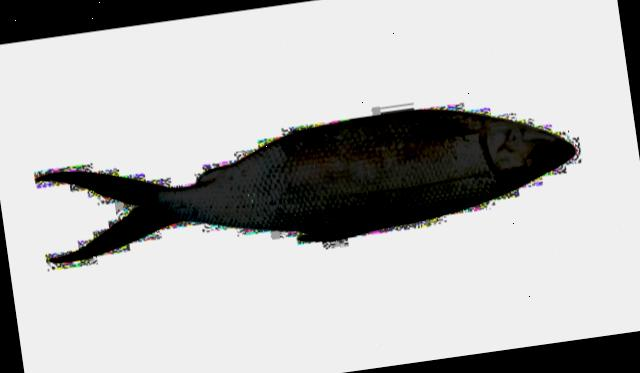Healthy Fish: (38, 109, 573, 261)
